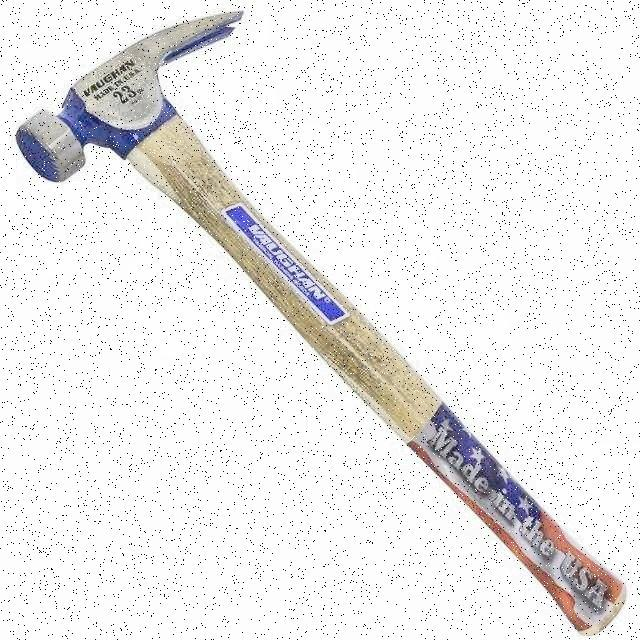hammer: (13, 8, 627, 635)
